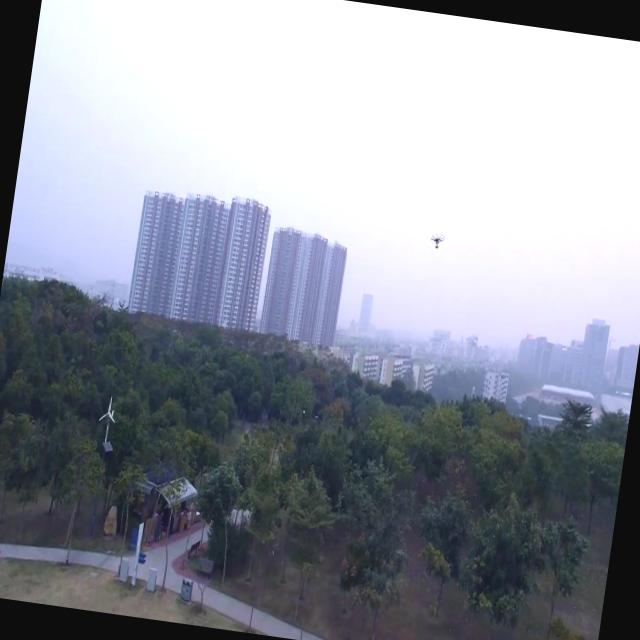drone: (427, 228, 449, 253)
